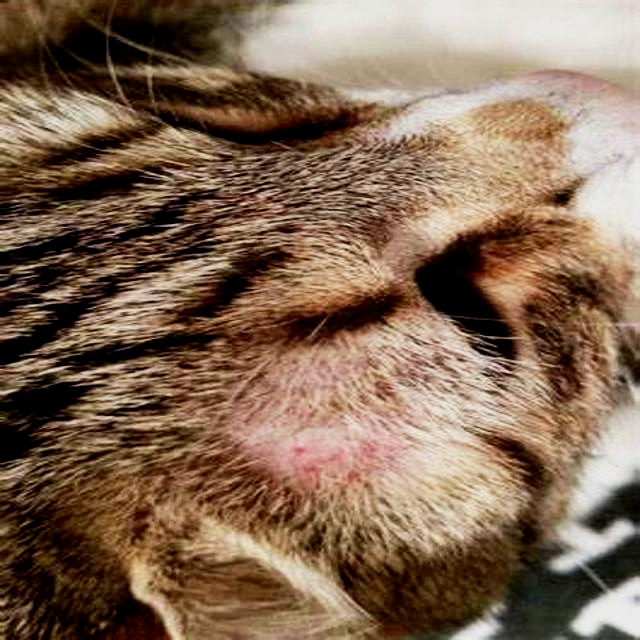ringworm: (236, 375, 439, 488)
